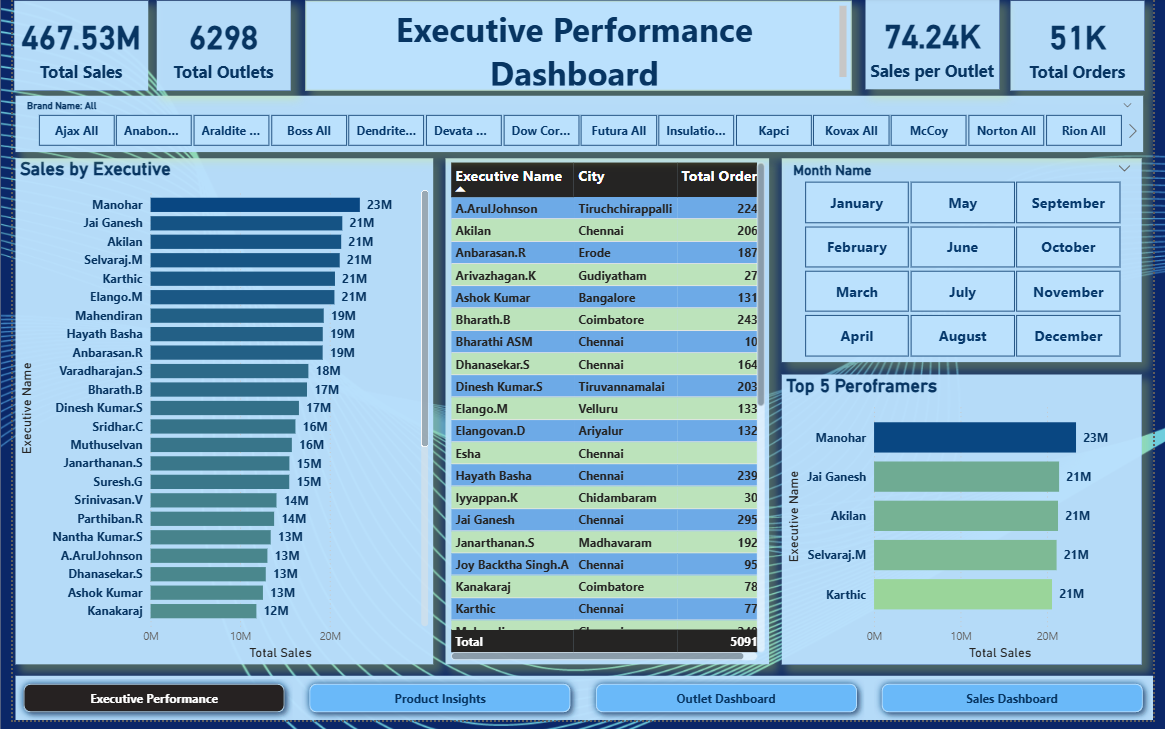

This screenshot's page, from the dashboard's own definition file:
{"tool":"powerbi","page":{"name":"Executive Performance","canvas":[1280,812],"ordinal":0},"visuals":[{"type":"card","title":"Total Sales","fields":{"Values":["Fact Table.Total Sales"]},"box":[1.4,4.2,150.1,101],"z":0},{"type":"card","fields":{"Values":["Fact Table.Total Orders"]},"box":[1119.5,4.2,150,101],"z":1000},{"type":"slicer","fields":{"Values":["Dim_Date.Month Name"]},"box":[862.8,181,404,229],"z":2000},{"type":"tableEx","fields":{"Values":["Dim_Executive.Executive Name","Dim_Executive.City","Fact Table.Total Orders"]},"box":[485.4,181,363.4,568.2],"z":3000},{"type":"textbox","box":[328.3,4.2,613.1,101],"z":4000},{"type":"barChart","title":"Top 5 Peroframers","fields":{"Category":["Dim_Executive.Executive Name"],"Y":["Fact Table.Total Sales"]},"box":[862.8,423.7,404,325.5],"z":5000},{"type":"barChart","title":"Sales by Executive","fields":{"Category":["Fact Table.Executive Name"],"Y":["Fact Table.Total Sales"]},"box":[2.8,181,468.6,568.2],"z":6000},{"type":"pageNavigator","box":[2.8,761.8,1276.6,50.5],"z":7000},{"type":"slicer","fields":{"Values":["Fact Table.Brand Name"]},"box":[2.8,110.8,1265.4,63.1],"z":8000},{"type":"card","fields":{"Values":["Fact Table.Total Outlets"]},"box":[161.3,4.2,150.1,101],"z":9000},{"type":"card","fields":{"Values":["Fact Table.Sales per Outlet"]},"box":[956.8,2.8,150.1,101],"z":10000}]}

Visuals, with their boxes in screenshot pixels (x1, y1, x2, y2), scaled from the page's 1280x812 canvas onto the 1165x729 screenshot:
"Total Sales" card: x1=1 y1=4 x2=138 y2=94
card - Fact Table.Total Orders: x1=1019 y1=4 x2=1155 y2=94
slicer - Dim_Date.Month Name: x1=785 y1=162 x2=1153 y2=368
tableEx - Dim_Executive.Executive Name x Dim_Executive.City: x1=442 y1=162 x2=773 y2=673
textbox: x1=299 y1=4 x2=857 y2=94
"Top 5 Peroframers" barChart: x1=785 y1=380 x2=1153 y2=673
"Sales by Executive" barChart: x1=3 y1=162 x2=429 y2=673
pageNavigator: x1=3 y1=684 x2=1164 y2=728
slicer - Fact Table.Brand Name: x1=3 y1=99 x2=1154 y2=156
card - Fact Table.Total Outlets: x1=147 y1=4 x2=283 y2=94
card - Fact Table.Sales per Outlet: x1=871 y1=3 x2=1007 y2=93
